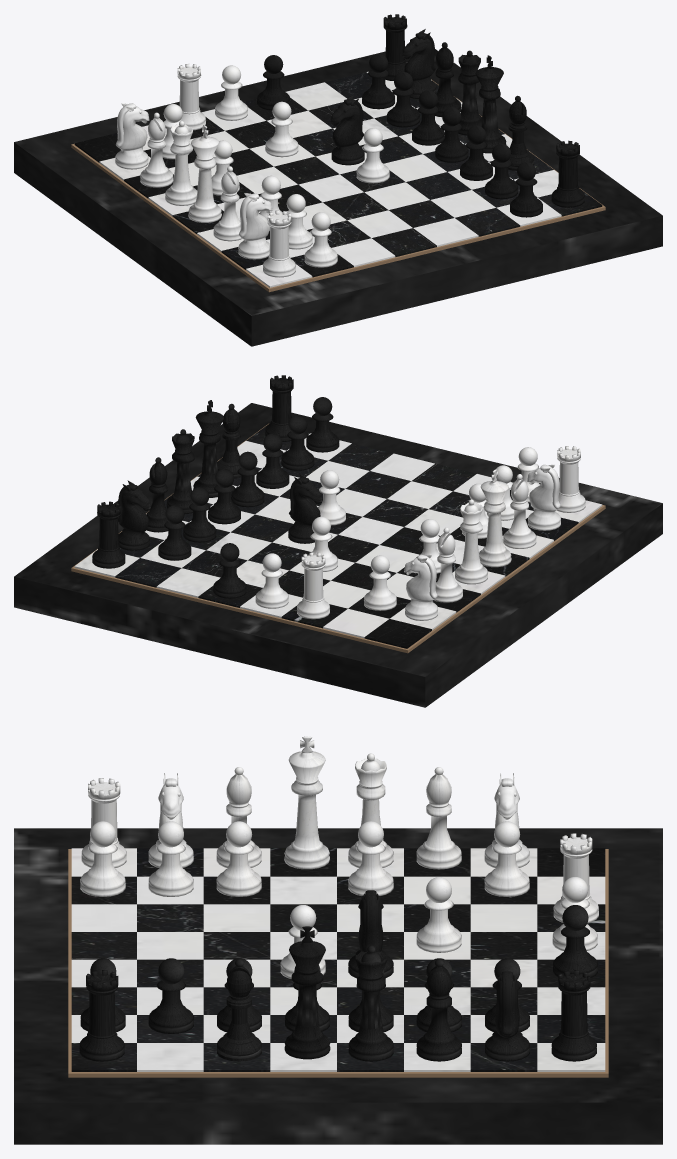
The model's file is tate-opening.glb.
3 views of the same model, one above another, from view 1: azimuth 30°, elevation 25°; view 2: azimuth 150°, elevation 25°; view 3: azimuth 270°, elevation 25° (orthographic). The views are drawn at different scales.
Visible parts, largest first — view 1: Chess Board, W_King, B_Knight_1, W_Knight_2, W_Knight_1, W_Queen, B_Knight_2, B_King, B_Rook_1, W_Rook_1, W_Bishop_2, B_Queen (+21 smaller); view 2: Chess Board, W_King, B_Knight_2, W_Knight_1, W_Knight_2, B_Knight_1, W_Queen, B_King, B_Rook_2, W_Rook_2, W_Rook_1, B_Queen (+21 smaller); view 3: Chess Board, B_King, W_King, B_Queen, B_Rook_2, B_Rook_1, B_Bishop_2, B_Bishop_1, W_Bishop_2, B_Knight_2, B_Pawn_2, W_Pawn_3 (+21 smaller).
Part boxes in pixels (x1,y1,x2,y2): Chess Board: [14, 49, 662, 346]; W_King: [188, 125, 221, 222]; B_Knight_1: [330, 95, 364, 165]; W_Knight_2: [115, 103, 149, 169]; W_Knight_1: [238, 193, 272, 259]; W_Queen: [165, 121, 197, 205]; B_Knight_2: [402, 29, 436, 98]; B_King: [475, 55, 506, 153]; B_Rook_1: [551, 140, 584, 207]; W_Rook_1: [263, 210, 295, 277]; W_Bishop_2: [140, 112, 173, 187]; B_Queen: [458, 50, 482, 135]; Chess Board: [14, 403, 662, 707]; W_King: [479, 469, 511, 567]; B_Knight_2: [118, 480, 150, 550]; W_Knight_1: [527, 464, 560, 530]; W_Knight_2: [404, 554, 437, 620]; B_Knight_1: [288, 473, 322, 543]; W_Queen: [455, 499, 487, 584]; B_King: [193, 400, 223, 497]; B_Rook_2: [92, 501, 125, 568]; W_Rook_2: [297, 552, 329, 619]; W_Rook_1: [556, 446, 585, 512]; B_Queen: [166, 429, 194, 514]; Chess Board: [14, 828, 662, 1144]; B_King: [284, 926, 330, 1059]; W_King: [284, 736, 329, 869]; B_Queen: [348, 945, 393, 1061]; B_Rook_2: [551, 970, 596, 1061]; B_Rook_1: [79, 970, 124, 1061]; B_Bishop_2: [416, 959, 461, 1061]; B_Bishop_1: [217, 959, 261, 1061]; W_Bishop_2: [416, 767, 461, 869]; B_Knight_2: [485, 971, 529, 1061]; B_Pawn_2: [148, 958, 193, 1033]; W_Pawn_3: [216, 821, 261, 896].
Size of the model in its own units: 2.05 by 0.6077 by 2.05.
6 materials, 5 textured.
